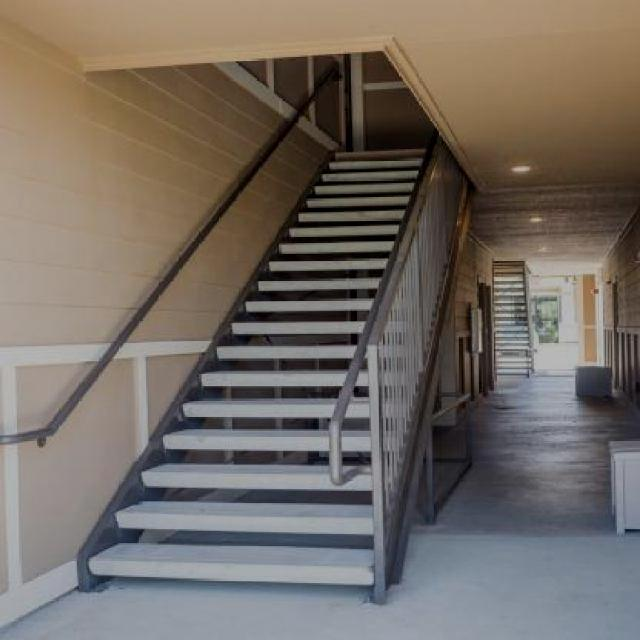stair: (44, 120, 508, 602)
